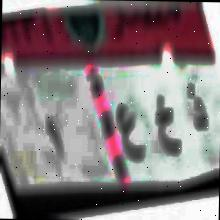1: (44, 107, 66, 165)
ain: (115, 98, 144, 167)
khaa: (152, 94, 182, 158)
zaal: (184, 78, 210, 138)
